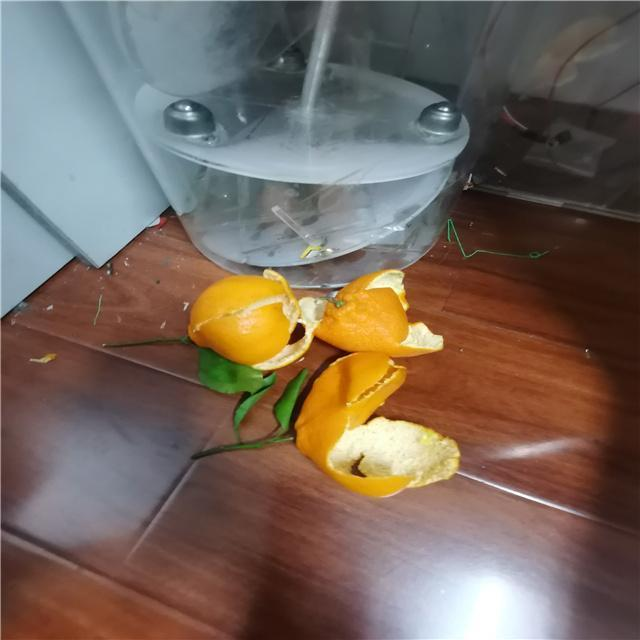orange peel: (261, 346, 462, 502), (290, 258, 452, 368), (171, 266, 306, 375)
